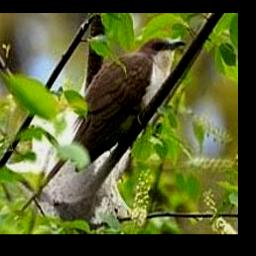Cuckoo: (23, 37, 186, 209)
